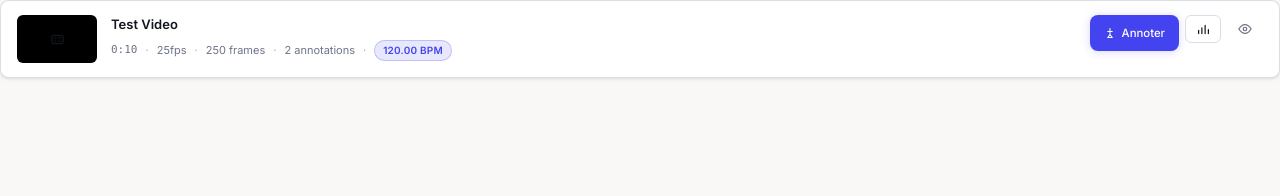
Test: VideoCard › PreviewPanel can be closed from VideoCard
The width and height of the screenshot is (1280, 196).
Click the button named "adapter": (1245, 29) left=1227, top=15, right=1263, bottom=43
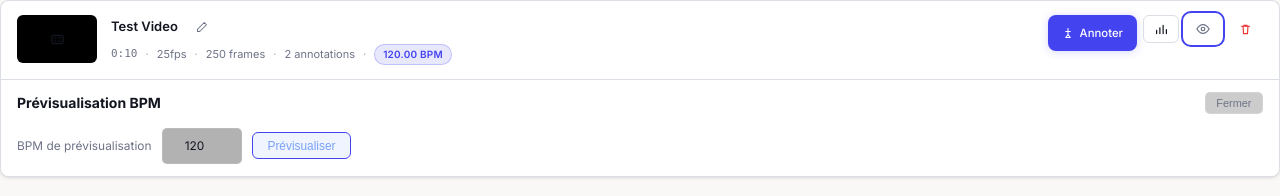
Click the button "Fermer": (1234, 103) left=1205, top=92, right=1263, bottom=114
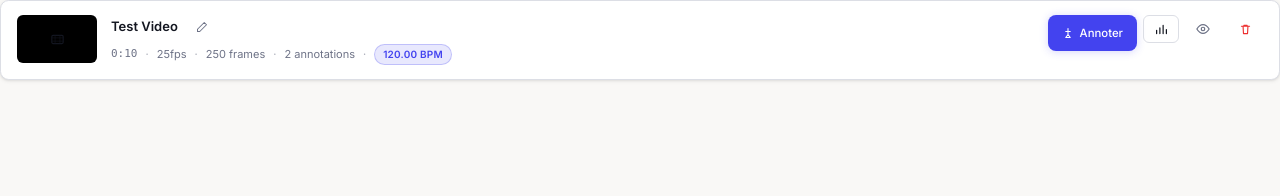
Check: the element with test id "bpm-preview-panel" is gone
